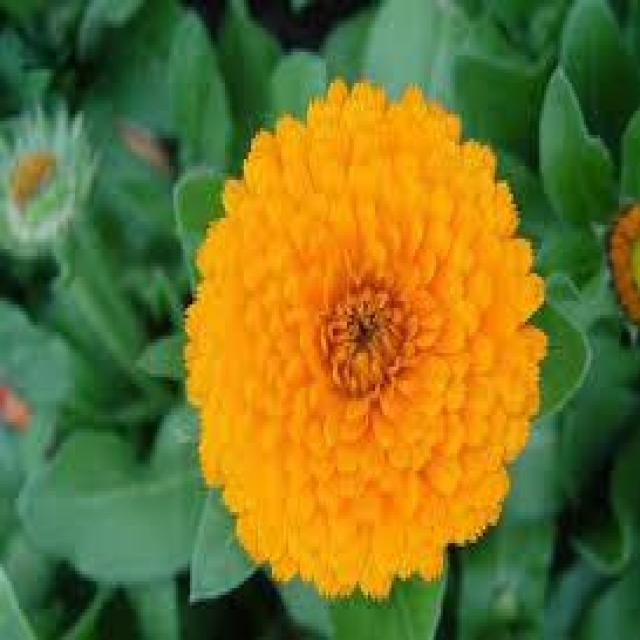organic waste: (182, 71, 542, 579)
